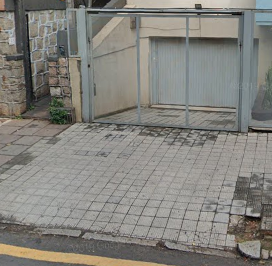vag89: (2, 198, 227, 266)
